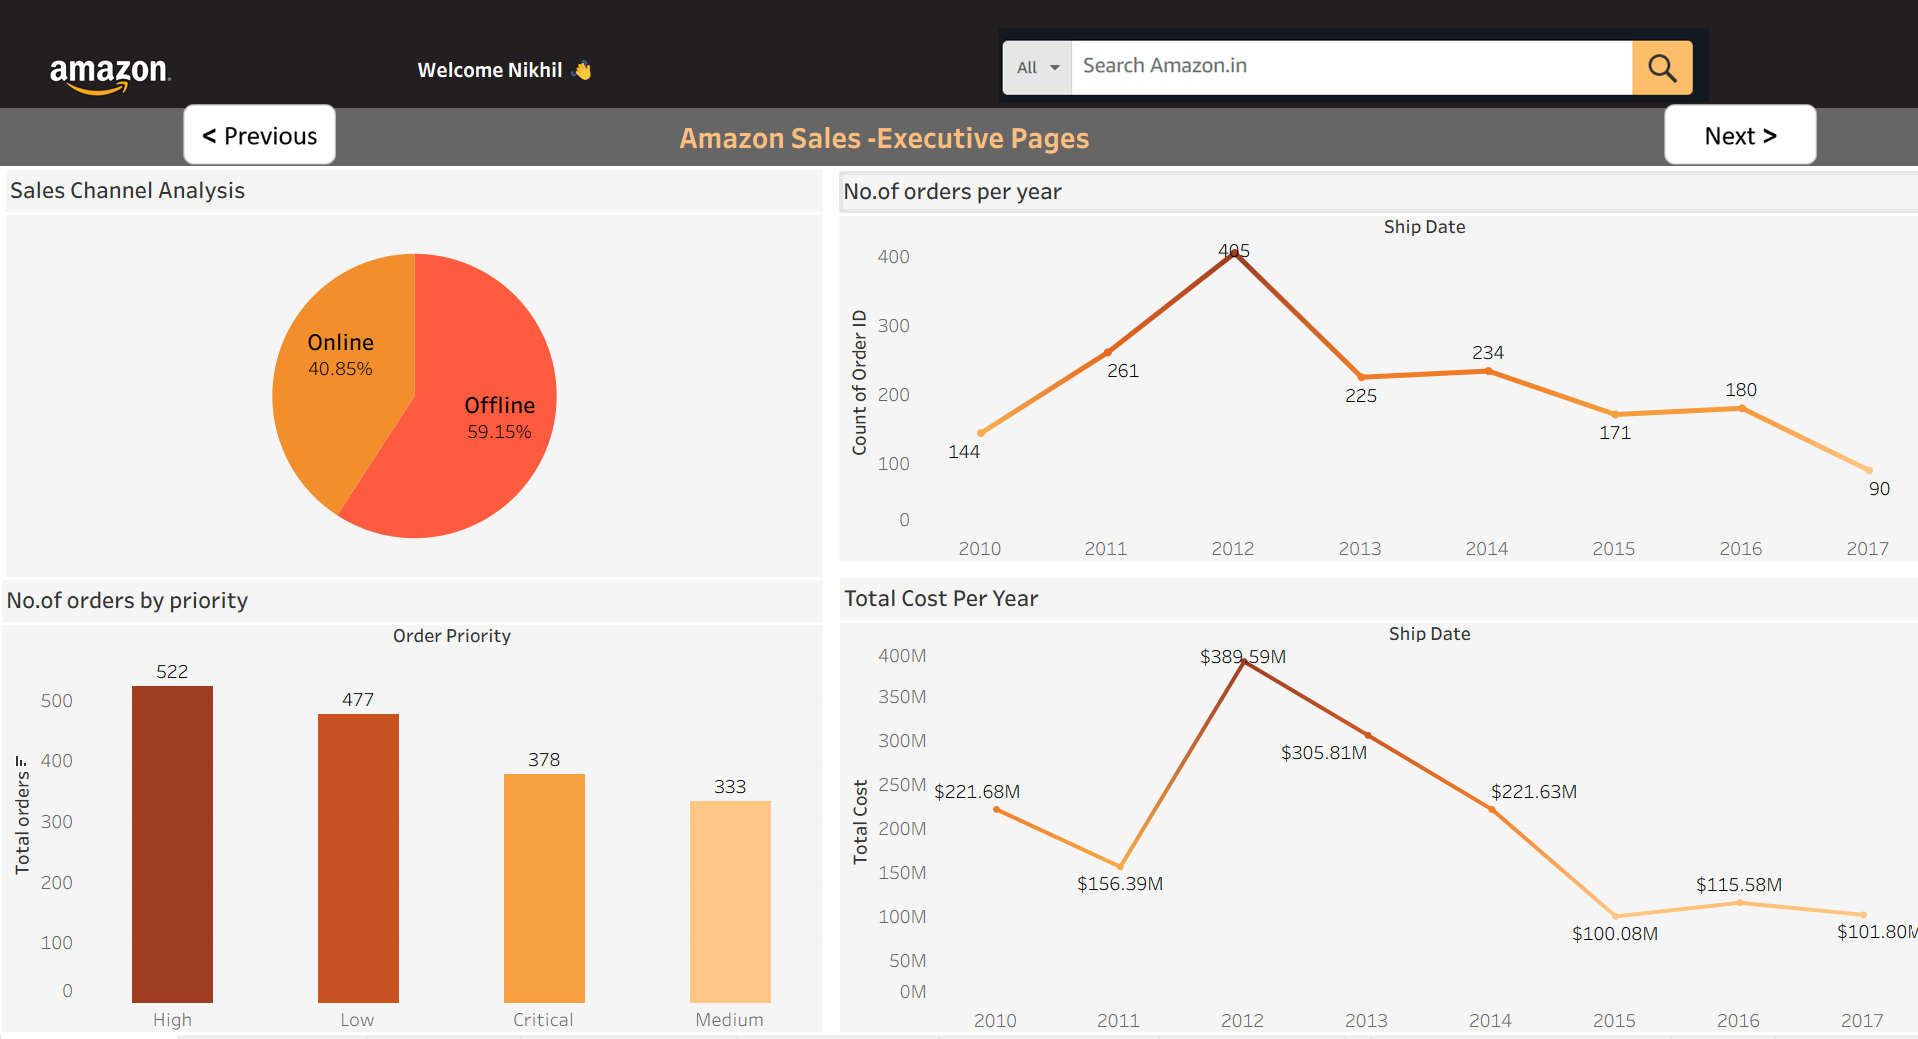

What the dashboard file says about the page in this screenshot:
{"tool":"tableau","page":{"name":"Executive Pages","canvas":[1000,1000],"units":"permille","ordinal":1},"visuals":[{"type":"image","param":"C:/Users/hp/Downloads/amazon-dark-logo-png-transparent.png","box":[8.4,1.2,130.5,147.6]},{"type":"text","box":[215.3,47.1,135.9,37.2]},{"type":"dashboard-object","box":[85.7,100.5,99.6,64.5]},{"type":"dashboard-object","box":[856.6,100.5,99.6,64.5]},{"type":"text","box":[351.8,104.2,306.7,54.6]},{"type":"worksheet","title":"Sales Channel Analysis","mark":"Pie","box":[3.1,163.8,433.3,393.3]},{"type":"worksheet","title":"Total Cost Per Year","mark":"Automatic","rows":["Total Cost"],"cols":["Ship Date"],"box":[437.5,558.3,565,439.2]},{"type":"worksheet","title":"No.of orders by priority","mark":"Bar","rows":["Calculation_0982161992761345"],"cols":["Order Priority"],"box":[1.2,560.8,433.3,436.7]}]}

Visuals, with their boxes on the dashboard's canvas, which has no fixed pixel size, in thousandths of its width and height (x1, y1, x2, y2). These are canvas units, not pixel positions in the 1918x1039 screenshot, which may show the page scaled, cropped or inside an application window:
image: [8, 1, 139, 149]
text: [215, 47, 351, 84]
dashboard-object: [86, 100, 185, 165]
dashboard-object: [857, 100, 956, 165]
text: [352, 104, 658, 159]
"Sales Channel Analysis" worksheet (Pie marks): [3, 164, 436, 557]
"Total Cost Per Year" worksheet: [438, 558, 1002, 998]
"No.of orders by priority" worksheet (Bar marks): [1, 561, 434, 998]
